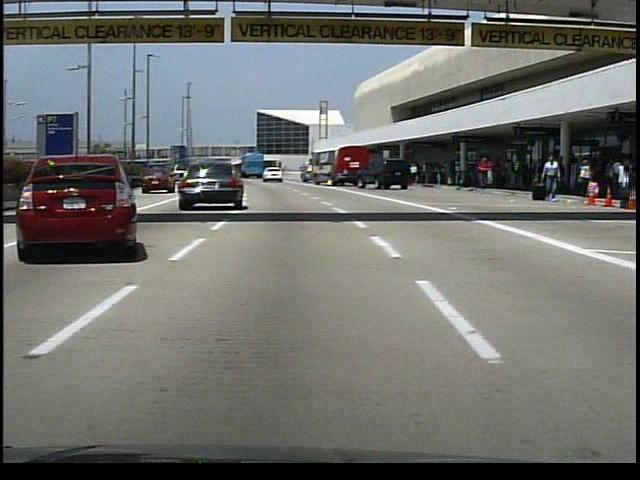person: (536, 152, 561, 201), (476, 155, 494, 189), (512, 154, 528, 189), (446, 157, 458, 186), (408, 163, 420, 187)
